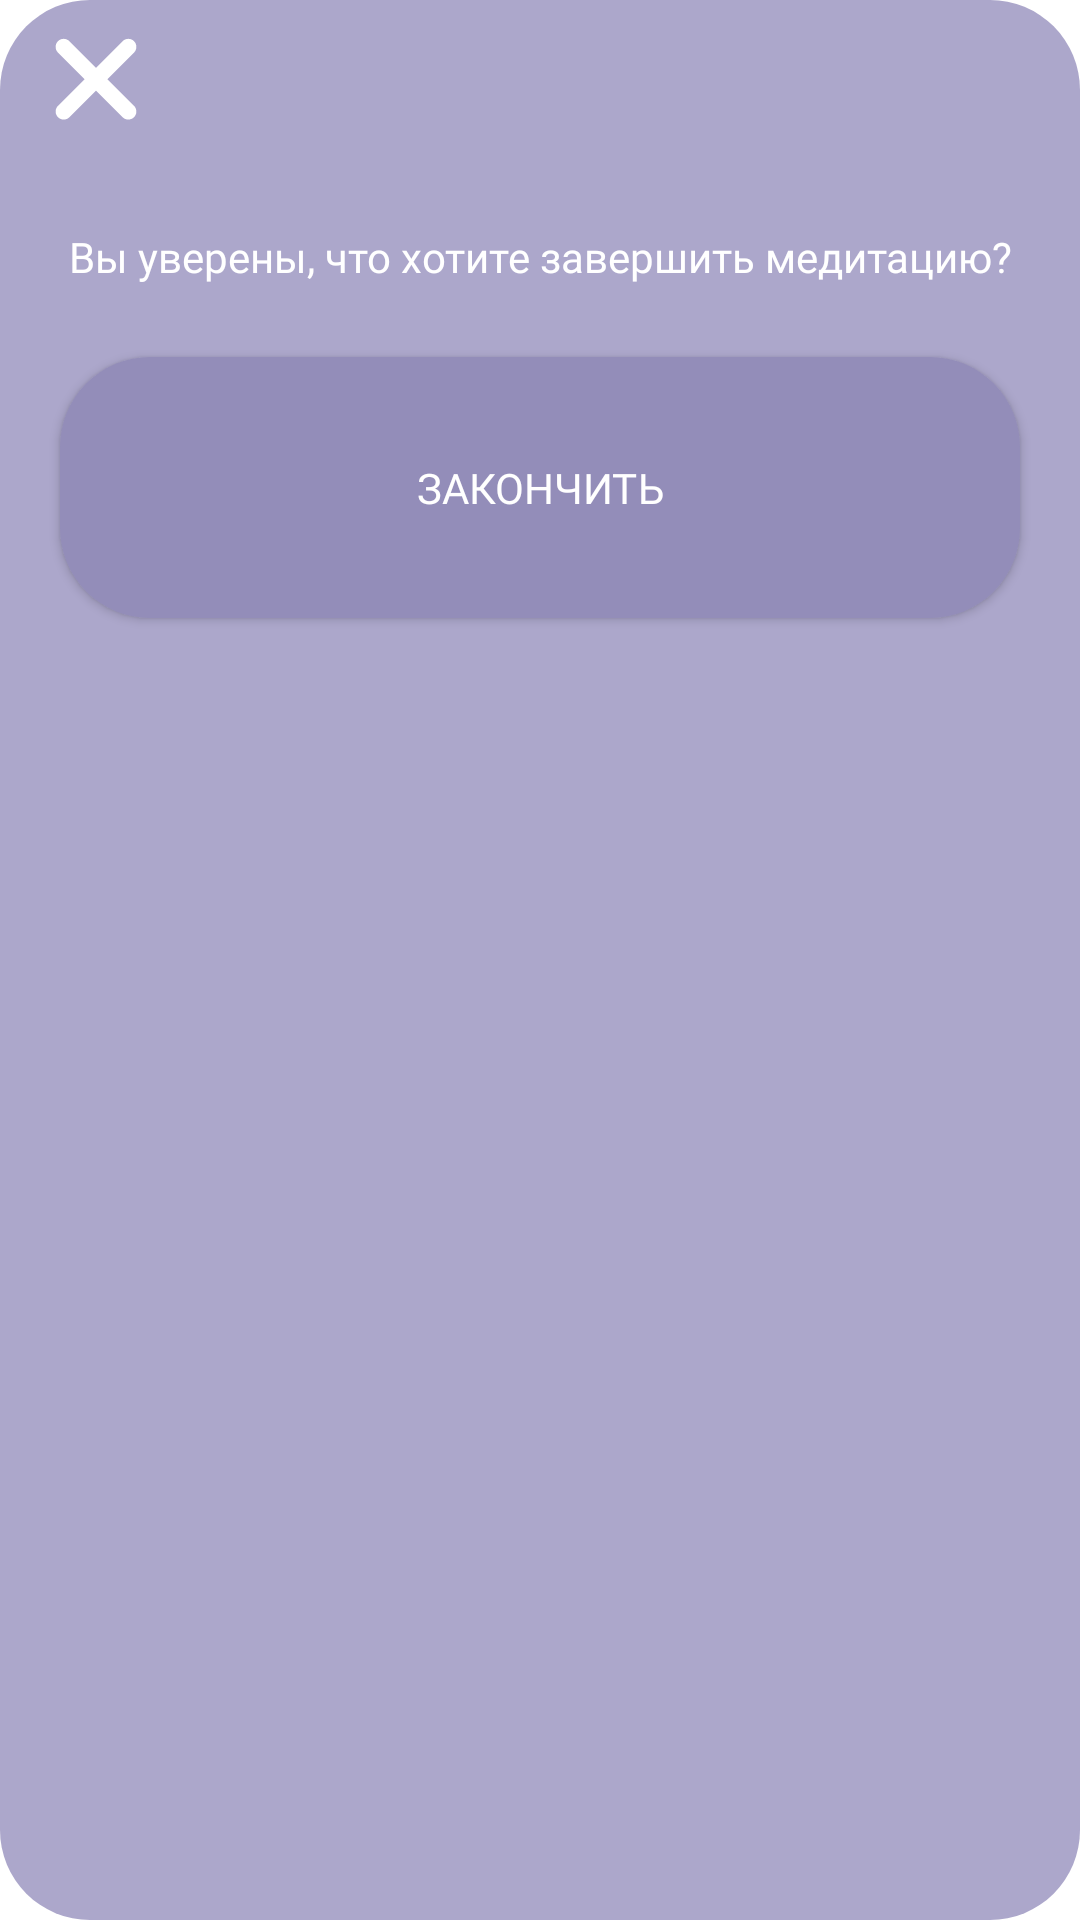

Named icons in this screenshot (1080px×1920px) and their centers, [x,y]:
cross: [95,79]
